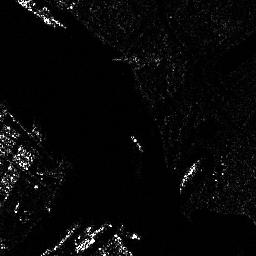ship: (16, 1, 58, 28)
